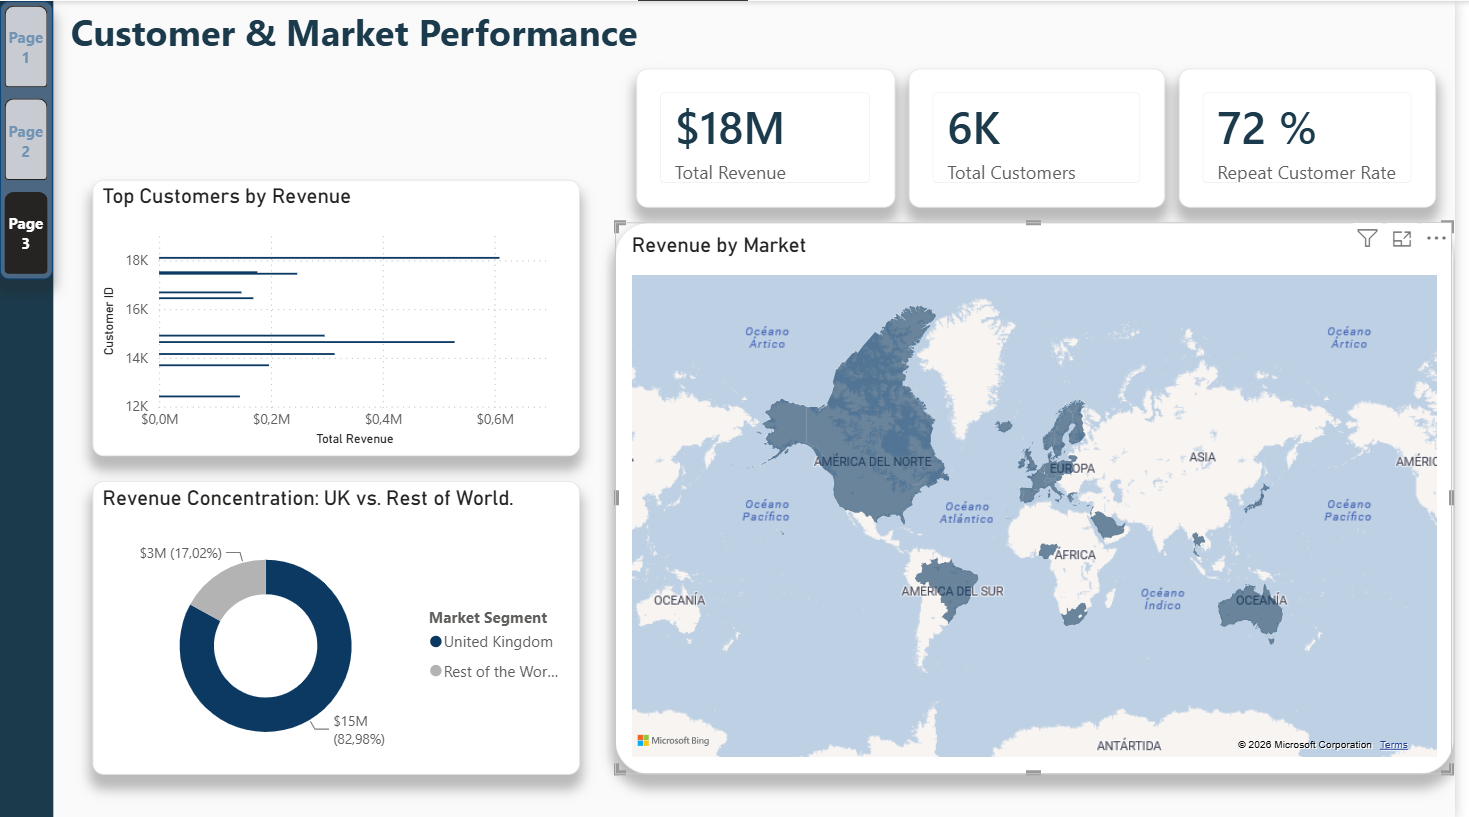

This screenshot's page, from the dashboard's own definition file:
{"tool":"powerbi","page":{"name":"Page 3","canvas":[1280,720],"ordinal":2},"visuals":[{"type":"textbox","box":[56.8,0,386.4,52.4],"z":0},{"type":"shape","box":[-0.7,0,48,720],"z":1000},{"type":"pageNavigator","box":[0,0,46.6,244.8],"z":2000},{"type":"filledMap","fields":{"Category":["online_retail_cleaned.Country"]},"box":[540.6,194.8,737.6,485.9],"z":3000},{"type":"cardVisual","fields":{"Data":["online_retail_cleaned.Total Revenue"]},"box":[543.2,26.4,227.6,130.8],"z":4000},{"type":"cardVisual","fields":{"Data":["online_retail_cleaned.Total Customers"]},"box":[787.3,27.5,229.8,130.8],"z":5000},{"type":"cardVisual","fields":{"Data":["online_retail_cleaned.Repeat Customer Rate"]},"box":[1035.8,26.4,234.2,130.8],"z":6000},{"type":"clusteredBarChart","fields":{"Category":["online_retail_cleaned.Customer ID"],"Y":["online_retail_cleaned.Total Revenue"]},"box":[81,157.6,429,243],"z":7000},{"type":"donutChart","fields":{"Category":["online_retail_cleaned.Market Segment"],"Y":["online_retail_cleaned.Total Revenue"]},"box":[81,422.4,429,258.3],"z":8000}]}

Visuals, with their boxes on the page's 1280x720 design canvas (x1, y1, x2, y2). These are canvas units, not pixel positions in the 1469x817 screenshot, which may show the page scaled, cropped or inside an application window:
textbox: [57, 0, 443, 52]
shape: [-1, 0, 47, 720]
pageNavigator: [0, 0, 47, 245]
filledMap - online_retail_cleaned.Country: [541, 195, 1278, 681]
cardVisual - online_retail_cleaned.Total Revenue: [543, 26, 771, 157]
cardVisual - online_retail_cleaned.Total Customers: [787, 28, 1017, 158]
cardVisual - online_retail_cleaned.Repeat Customer Rate: [1036, 26, 1270, 157]
clusteredBarChart - online_retail_cleaned.Customer ID x online_retail_cleaned.Total Revenue: [81, 158, 510, 401]
donutChart - online_retail_cleaned.Market Segment x online_retail_cleaned.Total Revenue: [81, 422, 510, 681]
